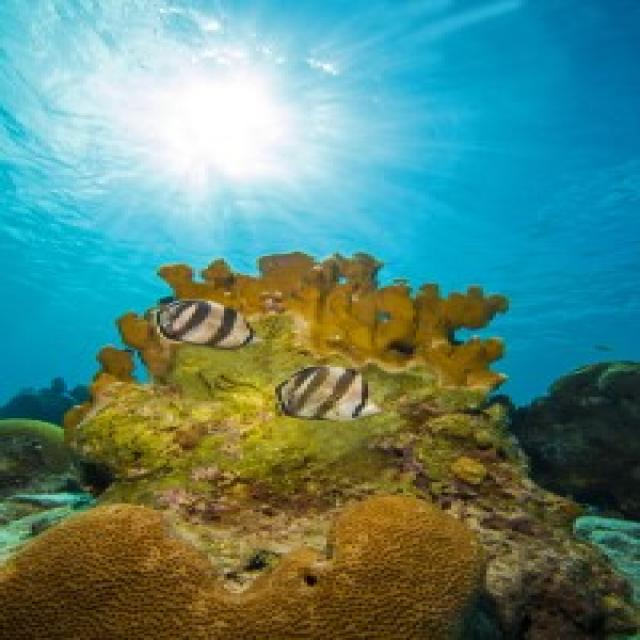Healthy: (1, 504, 318, 639), (289, 252, 515, 395), (94, 253, 321, 387), (315, 498, 481, 639), (75, 383, 260, 479)
